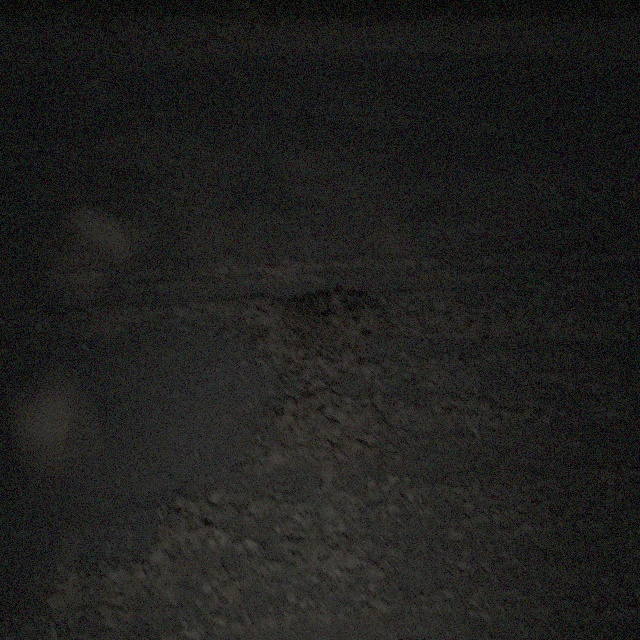pothole: (244, 282, 391, 378)
